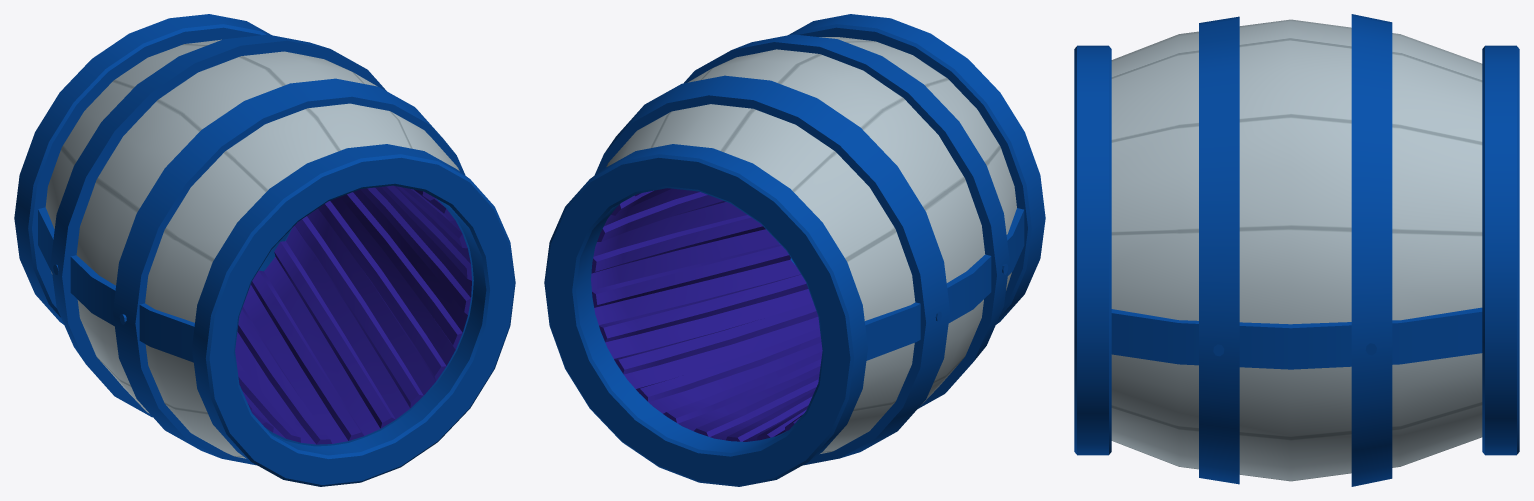
Rendered from GlideCannonSF_Prefab.fbx.
The picture shows the model from 3 angles, left to right: view 1: azimuth 30°, elevation 25°; view 2: azimuth 150°, elevation 25°; view 3: azimuth 270°, elevation 25°; orthographic projection. The views are drawn at different scales.
Visible parts, largest first — view 1: GlideCannonSF; view 2: GlideCannonSF; view 3: GlideCannonSF.
Boxes of the visible parts, x1,y1,x2,y2 form: GlideCannonSF: [14, 14, 515, 486]; GlideCannonSF: [544, 14, 1045, 486]; GlideCannonSF: [1074, 14, 1519, 486].
Size of what is drawn, in the model's own units: 37.53 by 37.53 by 35.2.
